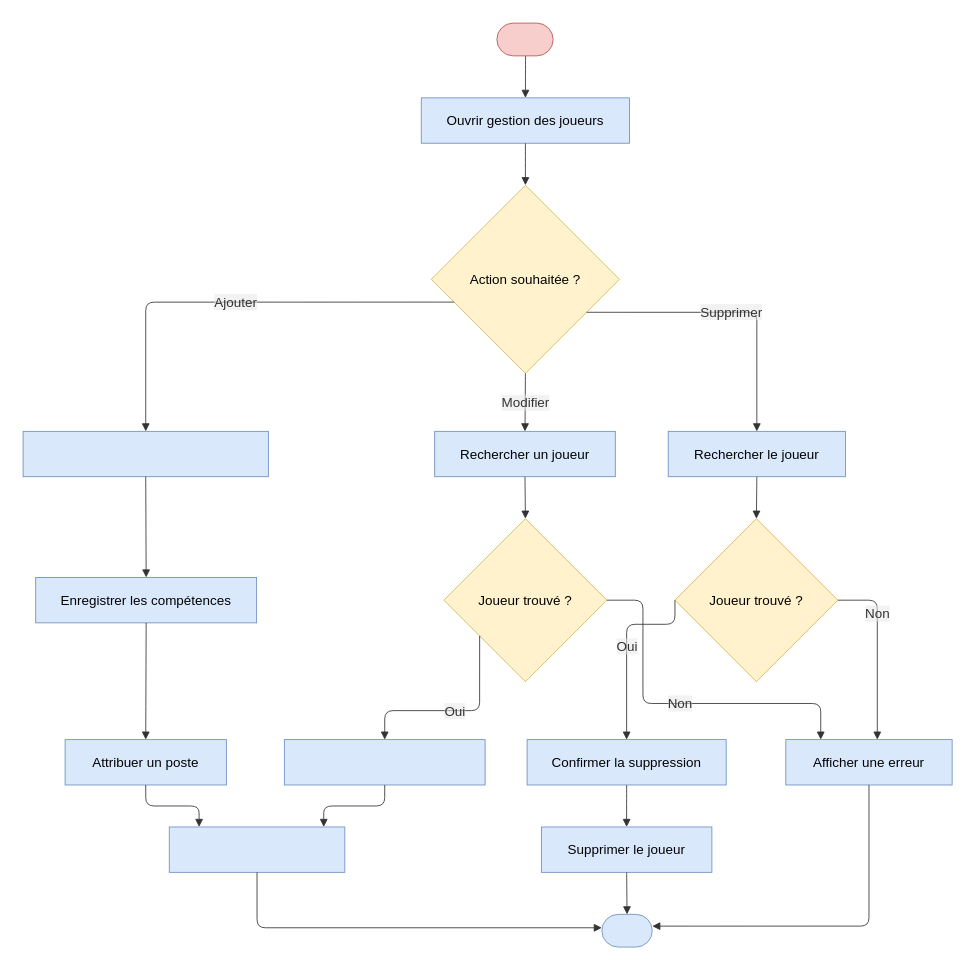
This 967x962 diagram has some shape labels left out. Each missing label, with the centre of its shape:
Début: (x=524, y=39)
Enregistrer le joueur: (x=256, y=849)
Fin: (x=626, y=930)
Modifier les informations: (x=384, y=762)
Saisir les informations du joueur: (x=145, y=453)
